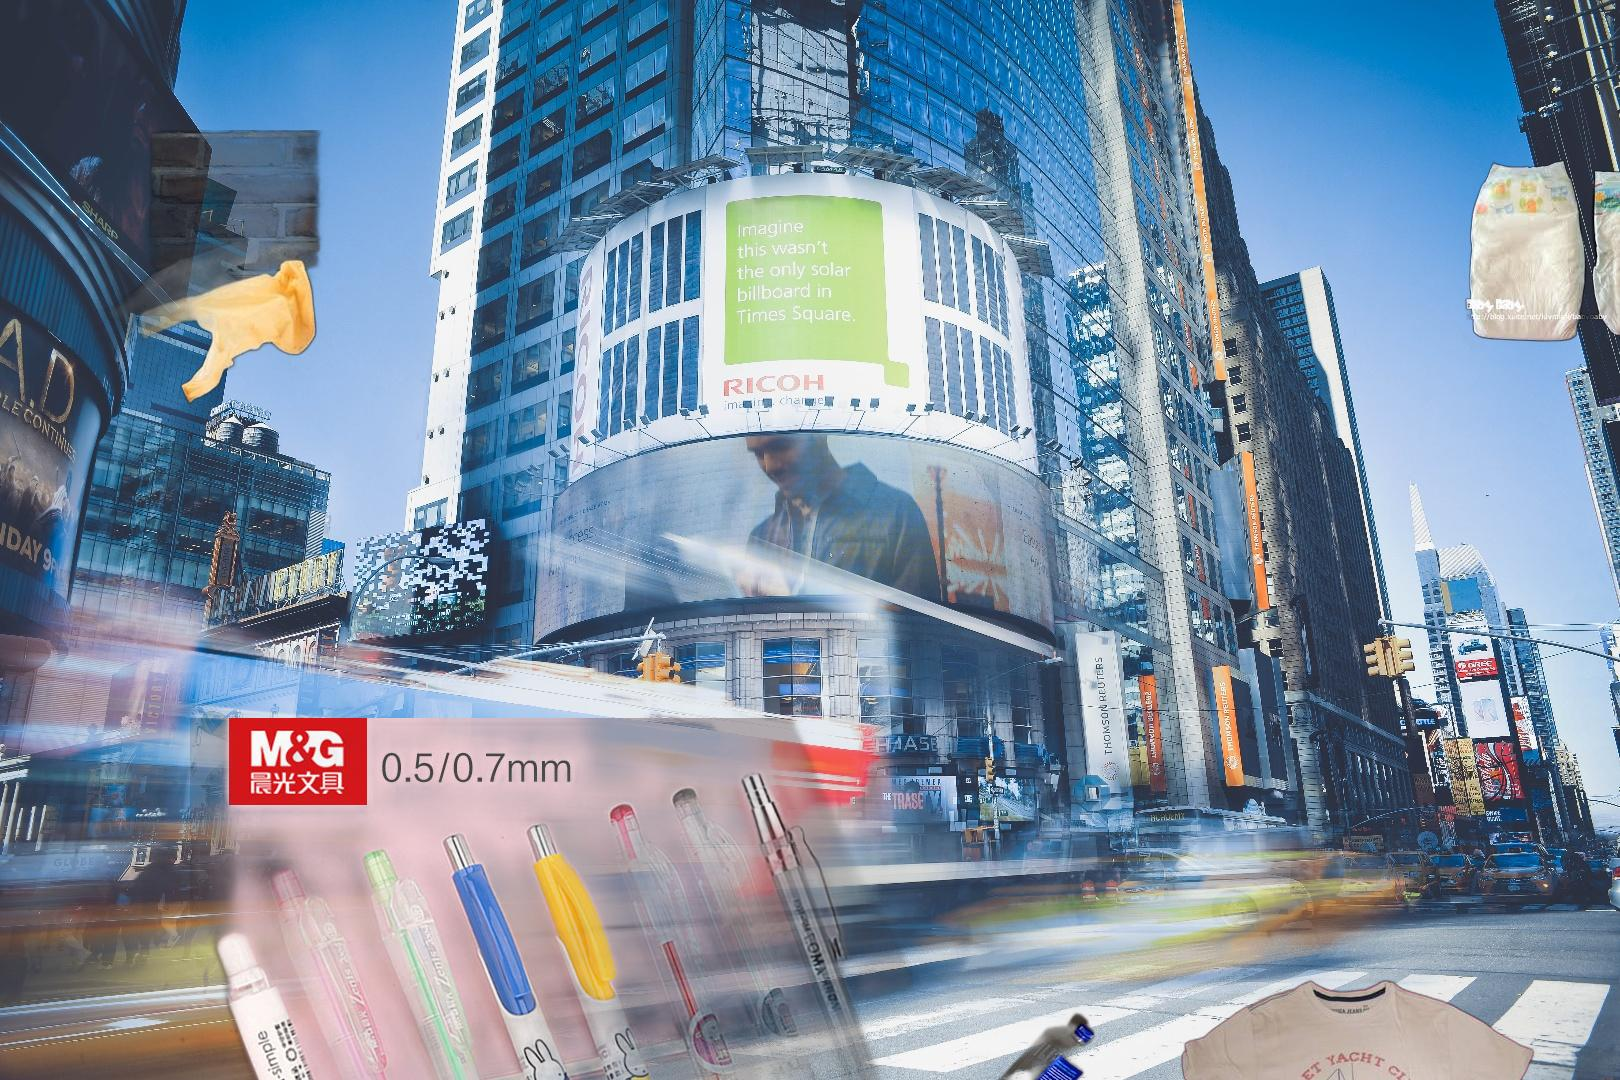clothes: (1179, 975, 1537, 1080)
glass: (22, 1000, 311, 1080)
penholder: (190, 718, 990, 1080)
plastic-bag: (57, 130, 335, 413)
plastic-bottles: (984, 1006, 1099, 1080)
trash: (1456, 153, 1620, 347)
